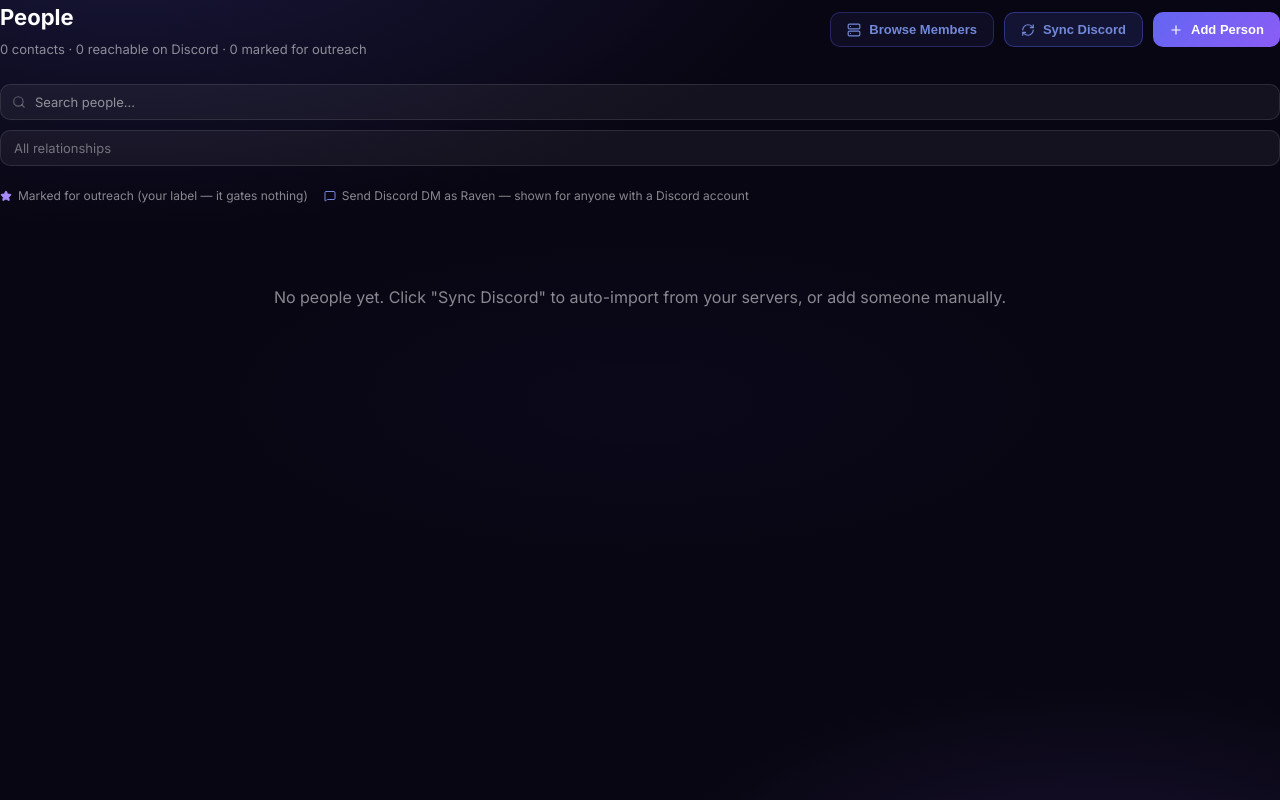
GuildPickerModal — all servers › says so when the server refuses, instead of showing an empty list
Click the button "Browse Members" at (912, 30), box [830,12,994,48]
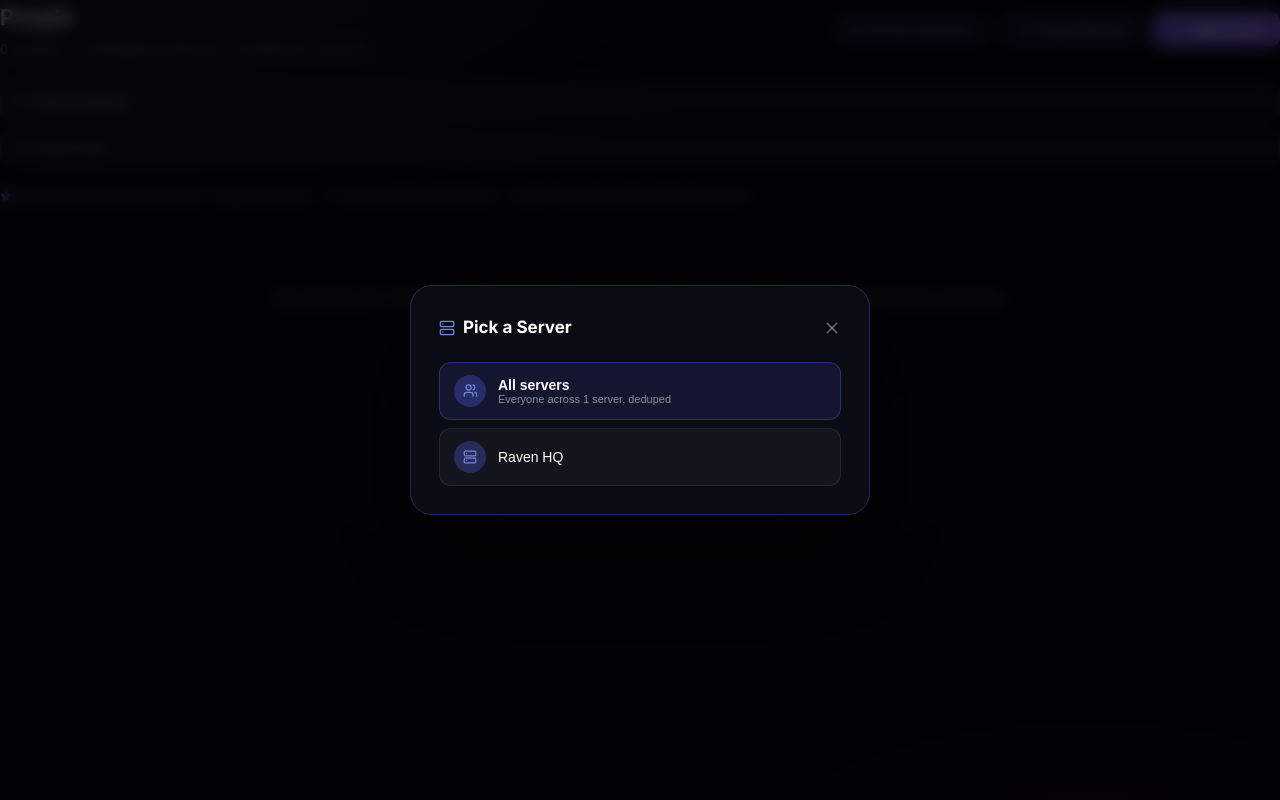
Click the text "All servers" at (534, 385), box [498,377,570,393]
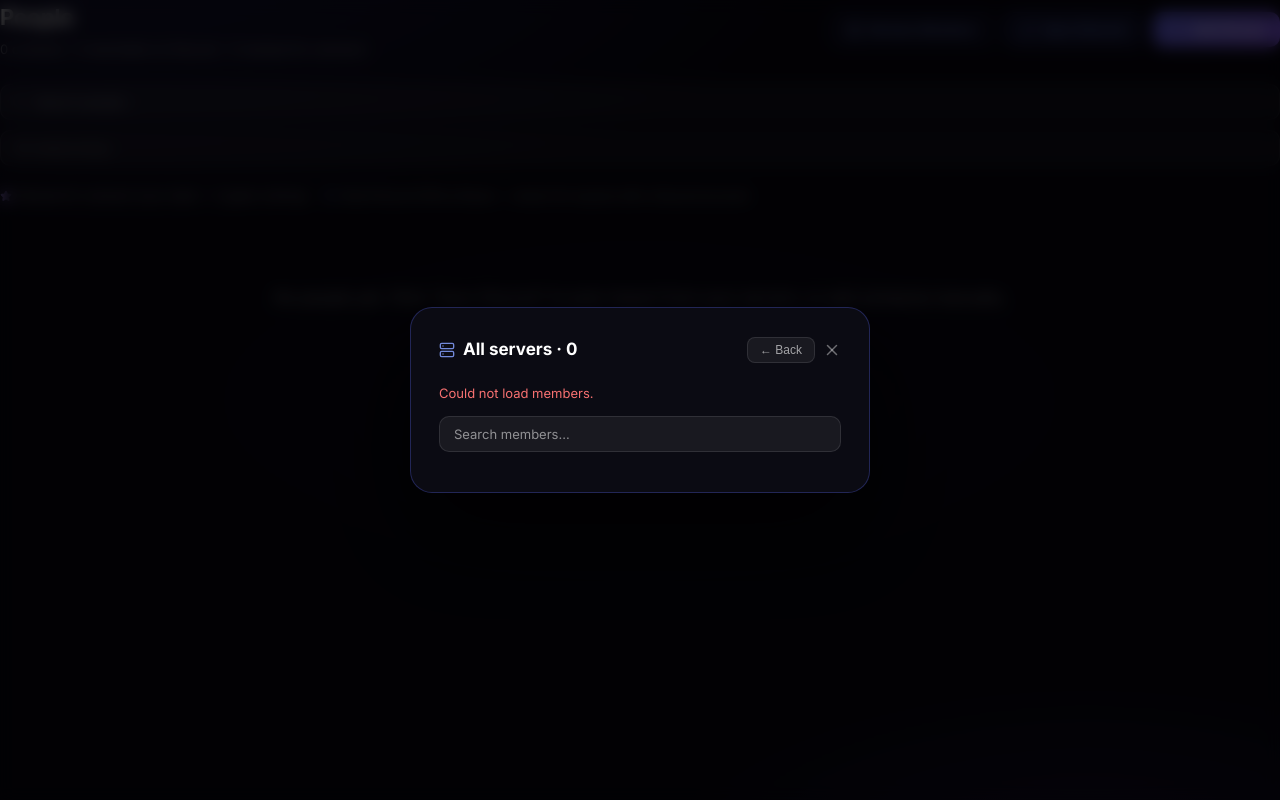
Expected: the text "Could not load members." is shown, [439,385,594,401]
